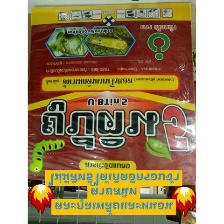book: (12, 0, 202, 190)
